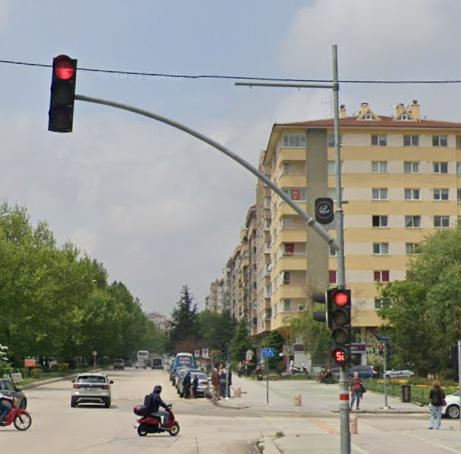redlight: (46, 54, 78, 134), (330, 285, 353, 348)
